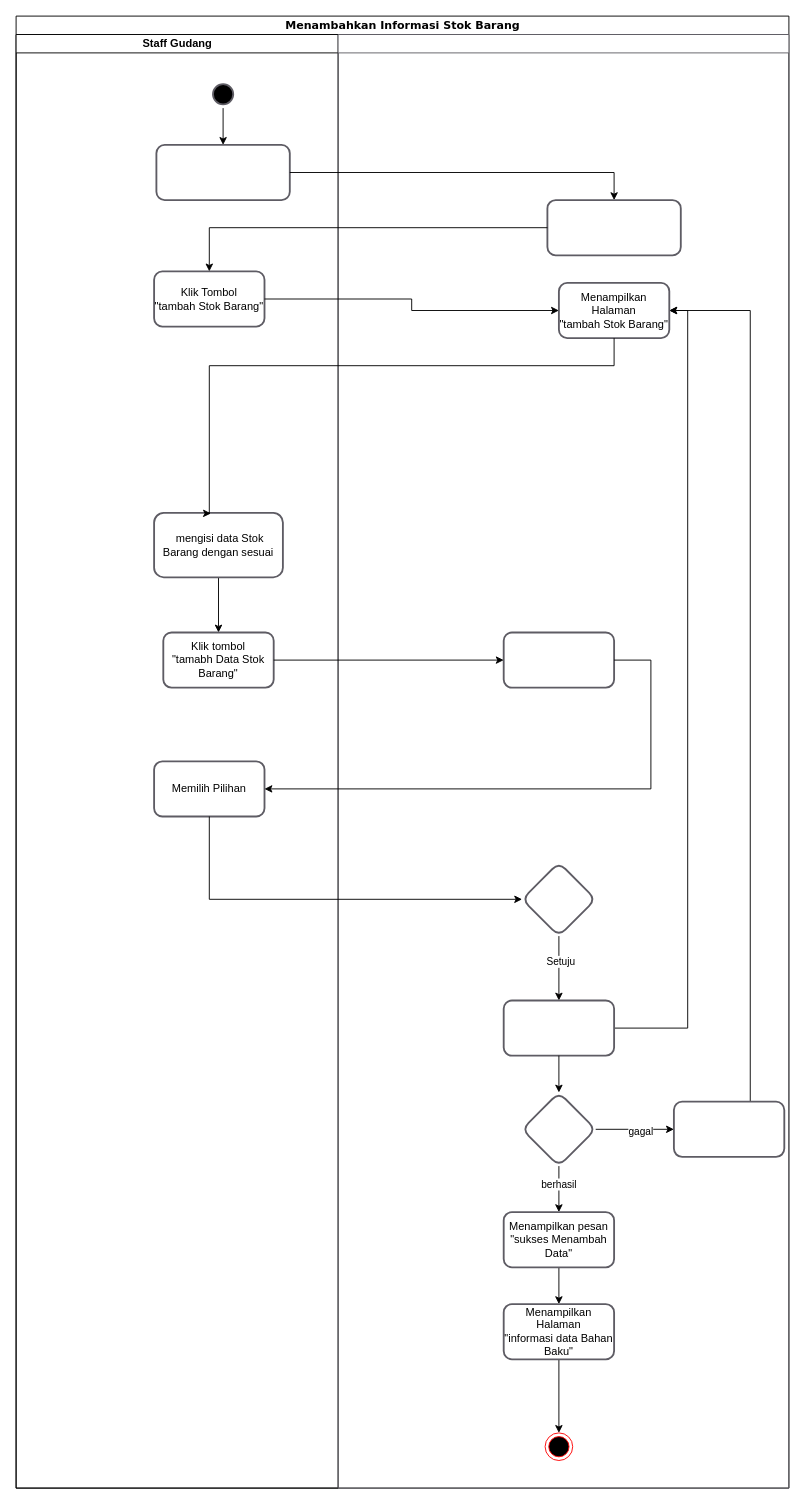
Some shapes in this 805 by 1504 pixel diagram are drawn without their labels. Each missing label, with the centre of its shape:
Klik Tombol "Informasi Stok Barang": (222,172)
Menampilkan Halaman "Informasi Stok Barang": (613,227)
Menampilkan Pesan "Apakah yakin ingin Menambah Data?": (558,659)
Menampilkan pesan "Error Data gagal Disimpan": (729,1128)
Menyimpan Data Stok Barang terbaru: (558,1027)
